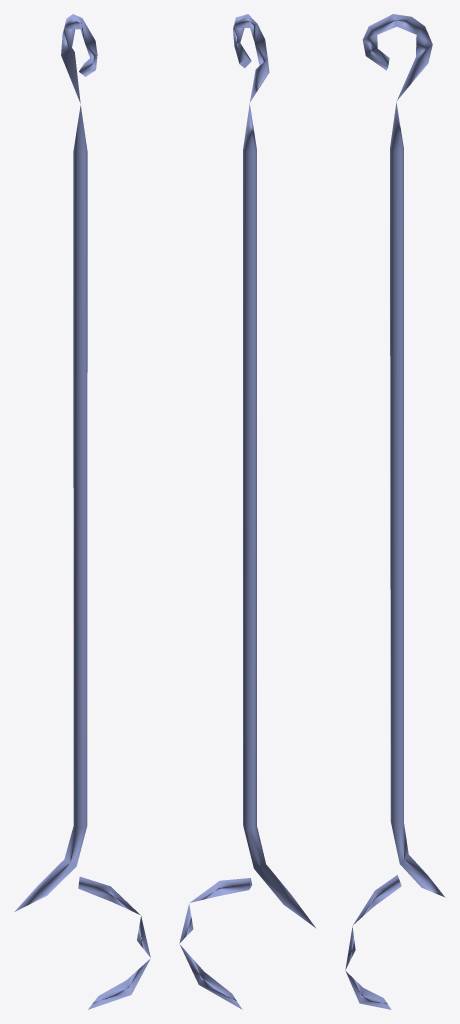
The model's file is Copie de tige_balancier_1er de cordee^Copie de Assemb_balancier_Horloge Comtoise Verge - Sonnerie.obj.
The picture shows the model from 3 angles, left to right: view 1: azimuth 30°, elevation 25°; view 2: azimuth 210°, elevation 25°; view 3: azimuth 270°, elevation 25°; orthographic projection.
Parts seen in each view (by area): view 1: Face_1, Face_5, Face_3, Face_2, Face_8, Face_6; view 2: Face_1, Face_5, Face_3, Face_2, Face_4, Face_6, Face_8; view 3: Face_1, Face_5, Face_3, Face_2, Face_6, Face_8, Face_4.
Boxes of the visible parts, bbox=[...] form: Face_1: bbox=[73, 152, 87, 827]; Face_5: bbox=[14, 876, 150, 1009]; Face_3: bbox=[39, 826, 87, 895]; Face_2: bbox=[61, 52, 87, 154]; Face_8: bbox=[79, 39, 97, 76]; Face_6: bbox=[65, 14, 94, 43]; Face_1: bbox=[243, 151, 256, 828]; Face_5: bbox=[179, 878, 315, 1009]; Face_3: bbox=[244, 825, 291, 904]; Face_2: bbox=[243, 70, 268, 153]; Face_4: bbox=[254, 38, 269, 76]; Face_6: bbox=[235, 14, 264, 41]; Face_8: bbox=[233, 19, 251, 63]; Face_1: bbox=[390, 149, 403, 826]; Face_5: bbox=[345, 875, 445, 1009]; Face_3: bbox=[391, 823, 430, 887]; Face_2: bbox=[390, 57, 427, 151]; Face_6: bbox=[369, 14, 424, 34]; Face_8: bbox=[362, 26, 389, 70]; Face_4: bbox=[416, 26, 432, 64].
Size of the model in its own units: 0.0106 by 0.1157 by 0.0106.
